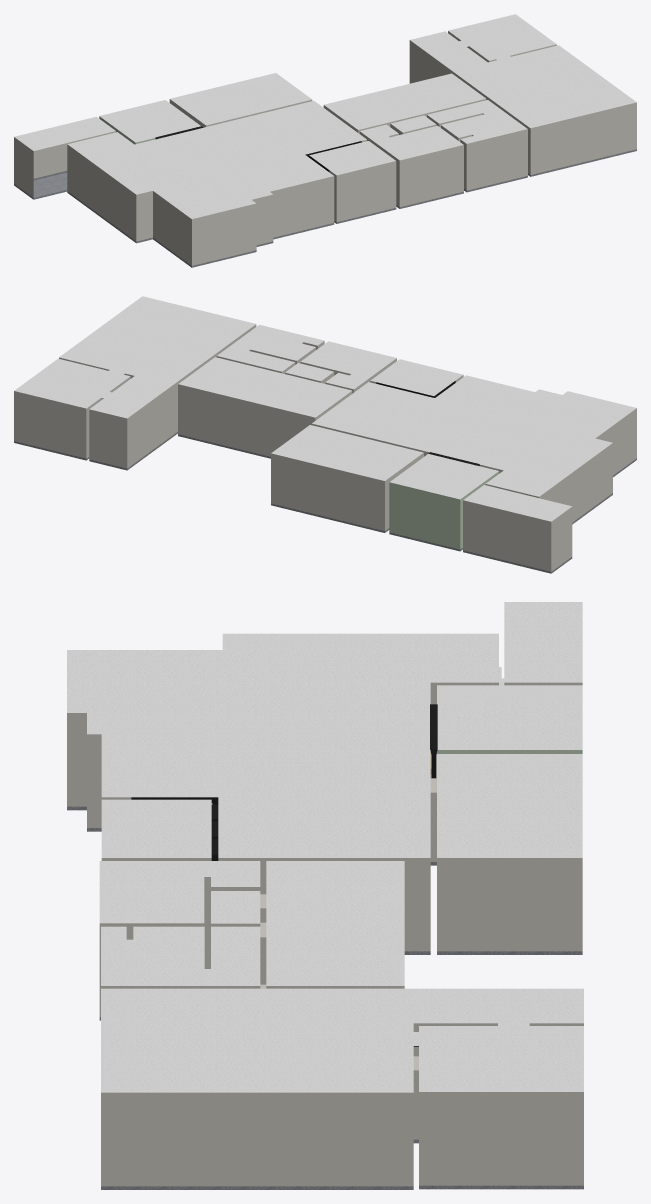
The model's file is dundermifflin.fbx.
The picture shows the model from 3 angles, top to bottom: view 1: azimuth 30°, elevation 25°; view 2: azimuth 150°, elevation 25°; view 3: azimuth 270°, elevation 25°; orthographic projection. The views are drawn at different scales.
Parts seen in each view (by area): view 1: Plane; view 2: Plane; view 3: Plane.
Boxes of the visible parts, <box> form: Plane: <box>14,14,636,267</box>; Plane: <box>14,296,636,573</box>; Plane: <box>67,602,583,1189</box>.
Size of the model in its own units: 2164 by 205 by 963.
